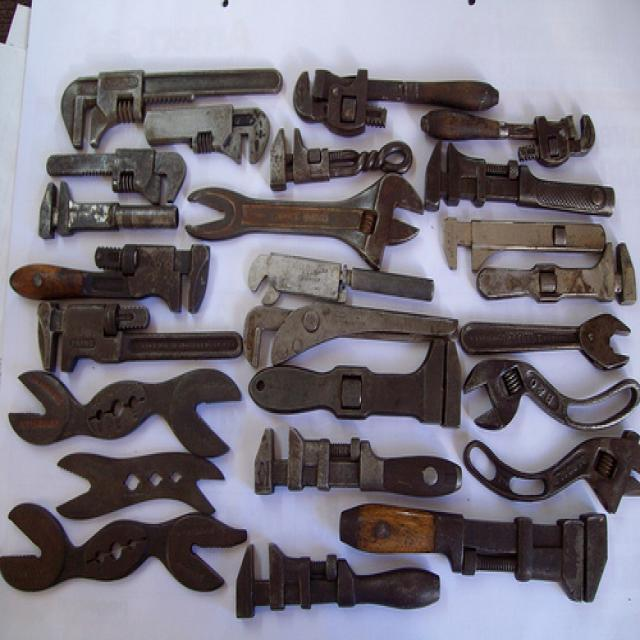wrench: (336, 491, 612, 609), (182, 168, 426, 272), (246, 335, 466, 441), (55, 60, 282, 154), (2, 234, 215, 319), (229, 540, 446, 623), (35, 296, 246, 376), (251, 426, 465, 504), (288, 59, 492, 140), (238, 296, 448, 369), (426, 144, 618, 218), (463, 356, 640, 434), (458, 302, 636, 373), (418, 104, 603, 172), (268, 127, 417, 193), (37, 179, 183, 242), (141, 103, 270, 169), (45, 151, 188, 205)
